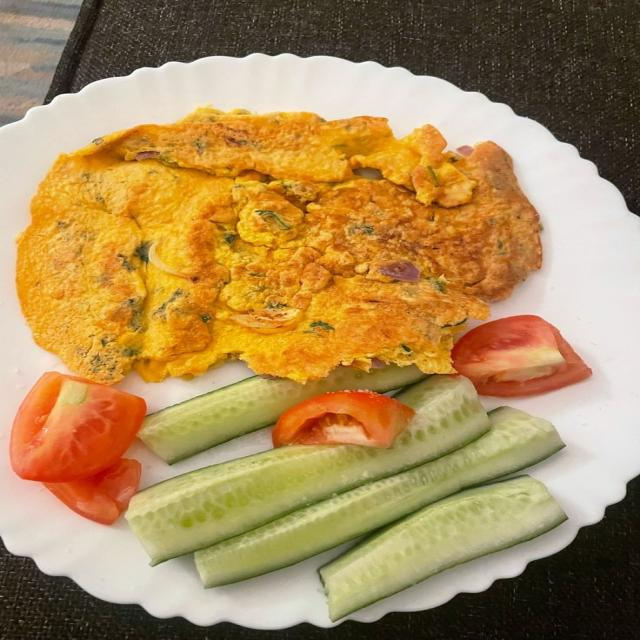omelette: (17, 109, 540, 383)
